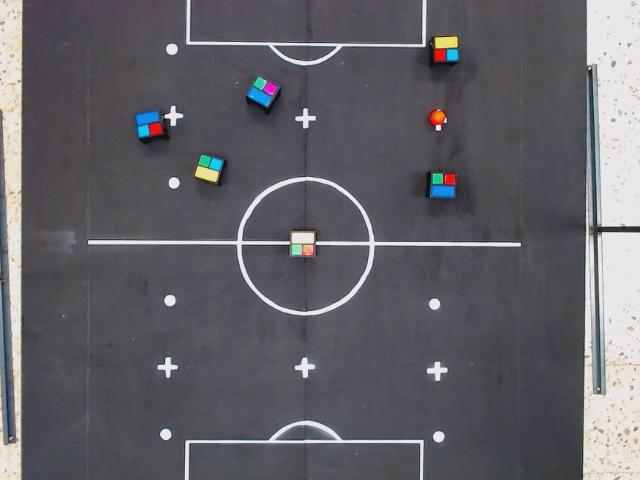robot: (244, 72, 281, 109), (427, 168, 460, 201), (193, 152, 225, 185), (133, 108, 165, 141), (431, 33, 462, 64), (288, 228, 318, 260)
